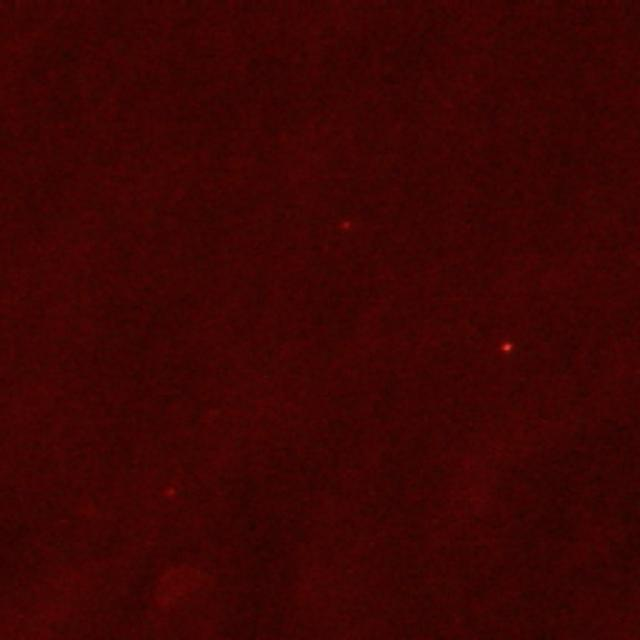Fragment: (500, 342, 516, 352)
